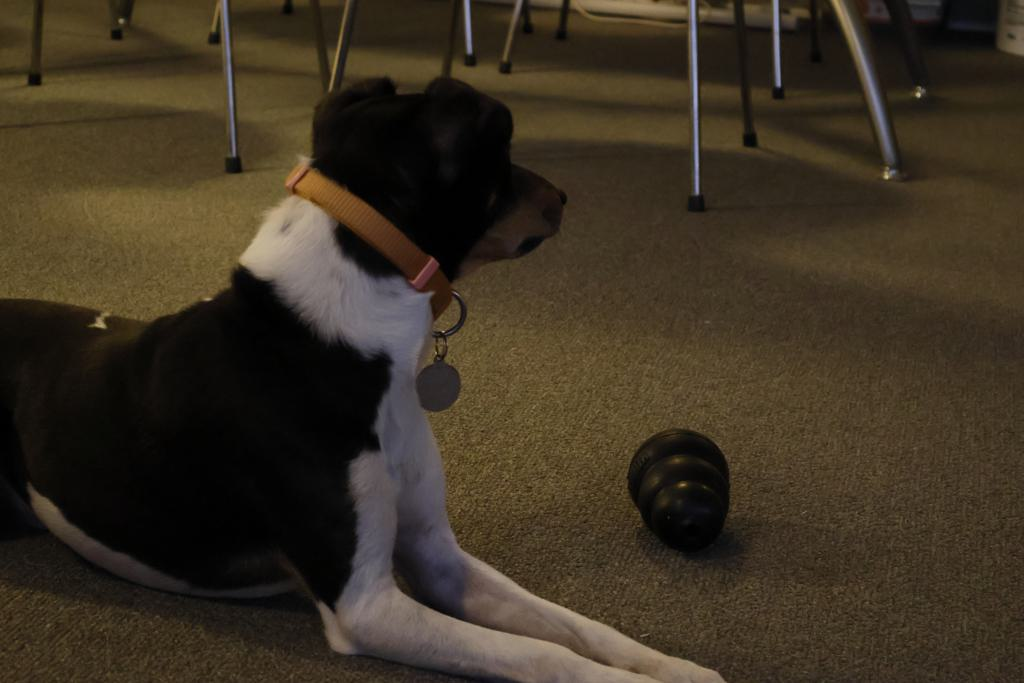Dog: (0, 58, 734, 683)
